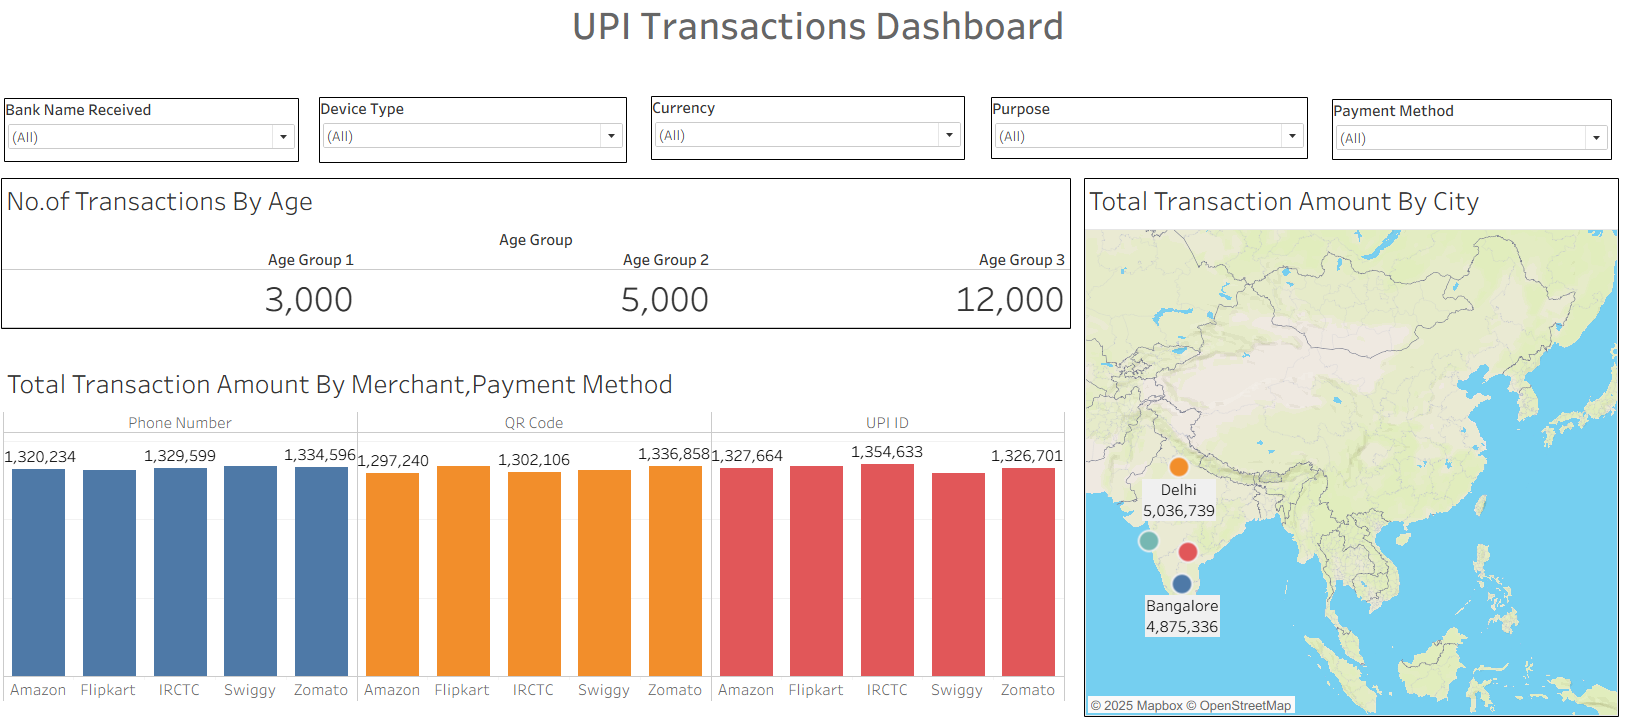

What the dashboard file says about the page in this screenshot:
{"tool":"tableau","page":{"name":"UPI Transactions  Dasboard","canvas":[1000,1000],"units":"permille","ordinal":0},"visuals":[{"type":"filter","title":"Map Visual","param":"[federated.0m81nmp138v8yg1c0o4cr0rg4ult].[none:Currency:nk]","box":[404.6,205.1,191.3,81.5]},{"type":"filter","title":"Map Visual","param":"[federated.0m81nmp138v8yg1c0o4cr0rg4ult].[none:DeviceType:nk]","box":[202.3,206.4,187.7,84.1]},{"type":"filter","title":"Map Visual","param":"[federated.0m81nmp138v8yg1c0o4cr0rg4ult].[none:Purpose:nk]","box":[611.8,206.4,193.2,79]},{"type":"filter","title":"Map Visual","param":"[federated.0m81nmp138v8yg1c0o4cr0rg4ult].[none:BankNameReceived:nk]","box":[10.4,207.6,179.8,81.5]},{"type":"filter","title":"Map Visual","param":"[federated.0m81nmp138v8yg1c0o4cr0rg4ult].[none:PaymentMethod:nk]","box":[819.6,208.9,170.6,77.7]},{"type":"worksheet","title":"Card Visual","mark":"Automatic","cols":["Calculation_1801158411228016640"],"box":[8.5,309.6,652,192.4]},{"type":"worksheet","title":"Map Visual","mark":"Automatic","box":[668.5,309.6,326,686.6]},{"type":"worksheet","title":"Column Chart","mark":"Automatic","rows":["Amount"],"cols":["PaymentMethod","MerchantName"],"box":[9.8,544,647.8,433.1]}]}

Visuals, with their boxes on the dashboard's canvas, which has no fixed pixel size, in thousandths of its width and height (x1, y1, x2, y2). These are canvas units, not pixel positions in the 1628x721 screenshot, which may show the page scaled, cropped or inside an application window:
"Map Visual" filter: x1=405, y1=205, x2=596, y2=287
"Map Visual" filter: x1=202, y1=206, x2=390, y2=290
"Map Visual" filter: x1=612, y1=206, x2=805, y2=285
"Map Visual" filter: x1=10, y1=208, x2=190, y2=289
"Map Visual" filter: x1=820, y1=209, x2=990, y2=287
"Card Visual" worksheet: x1=8, y1=310, x2=660, y2=502
"Map Visual" worksheet: x1=668, y1=310, x2=994, y2=996
"Column Chart" worksheet: x1=10, y1=544, x2=658, y2=977
